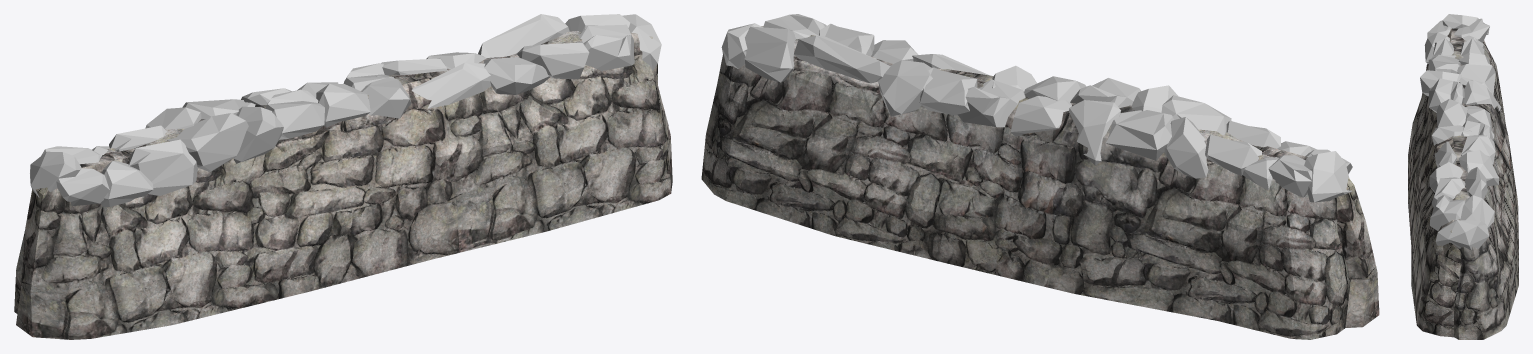
File: Wall_1_LOD1.fbx
3 views of the same model, side by side, from view 1: azimuth 30°, elevation 25°; view 2: azimuth 150°, elevation 25°; view 3: azimuth 270°, elevation 25° (orthographic). The views are drawn at different scales.
Visible parts, largest first — view 1: Wall, Rock; view 2: Wall, Rock; view 3: Wall, Rock.
Boxes of the visible parts, box(x1,y1,x2,y2) form: Wall: box(14, 31, 672, 339); Rock: box(30, 14, 661, 206); Wall: box(701, 26, 1379, 339); Rock: box(721, 14, 1352, 202); Wall: box(1408, 28, 1518, 339); Rock: box(1420, 14, 1501, 250).
Size of the model in its own units: 822 by 171 by 208.
